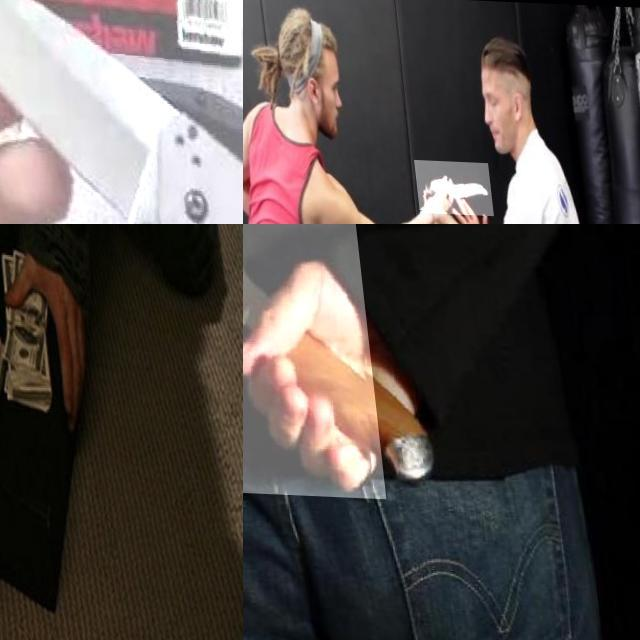-: (0, 0, 243, 224), (243, 224, 401, 496), (410, 157, 489, 212)
gun-knife-thesis - v11 Yolov5 augmented: (0, 398, 79, 640)
